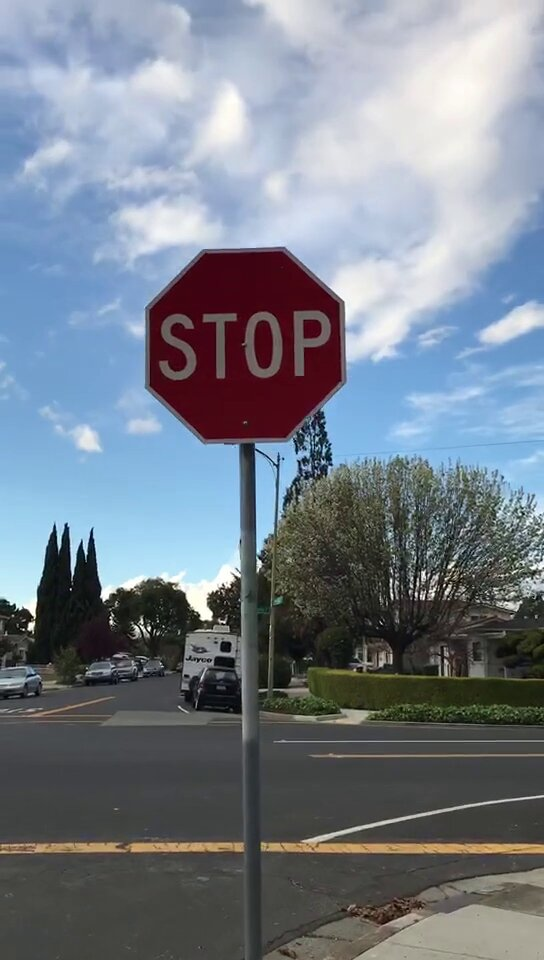stop_sign: (144, 250, 346, 444)
